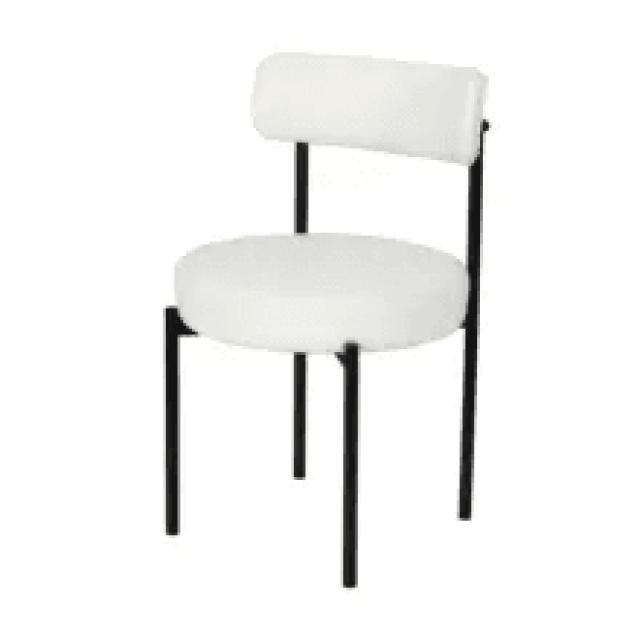chair: (158, 44, 496, 588), (170, 46, 491, 352)
